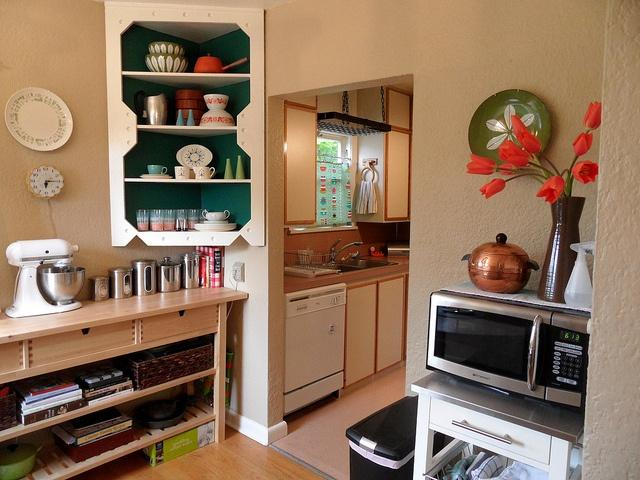Rak: (117, 16, 254, 236)
